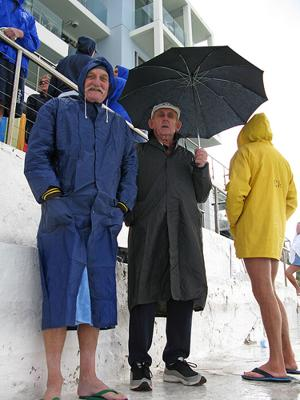person: (125, 101, 214, 392)
